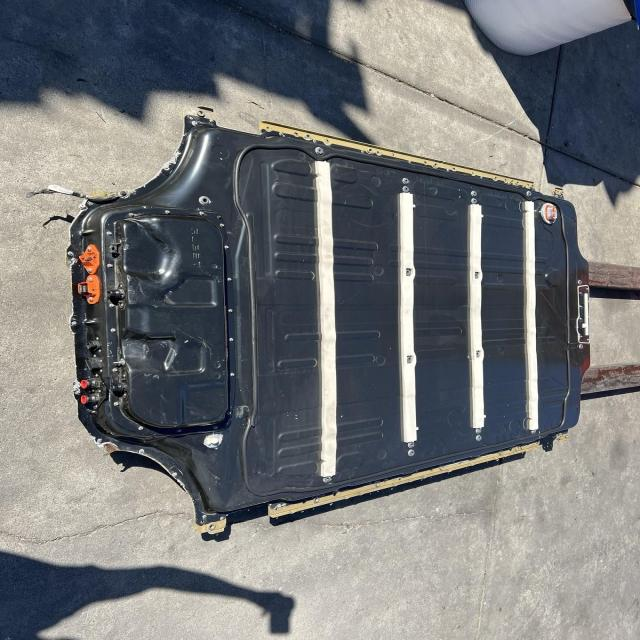Bolt: (197, 432, 235, 453), (108, 263, 130, 281), (222, 240, 238, 258), (220, 335, 241, 348), (226, 302, 242, 318), (228, 368, 243, 385), (111, 401, 130, 413), (106, 301, 122, 312), (104, 230, 122, 239), (135, 423, 150, 433), (106, 325, 120, 335), (157, 209, 175, 216), (228, 273, 236, 288), (220, 222, 230, 233), (200, 209, 208, 217), (126, 213, 138, 218), (114, 368, 120, 376)
Screw: (467, 267, 491, 290), (397, 184, 426, 201), (399, 263, 422, 282), (576, 338, 598, 356), (522, 419, 545, 436), (568, 274, 592, 290), (398, 438, 425, 450), (472, 419, 492, 435), (469, 348, 490, 362), (311, 146, 330, 161), (402, 351, 417, 370), (464, 184, 484, 198), (520, 188, 540, 200), (458, 200, 486, 208), (468, 436, 490, 445), (321, 474, 335, 488), (405, 449, 420, 460)
